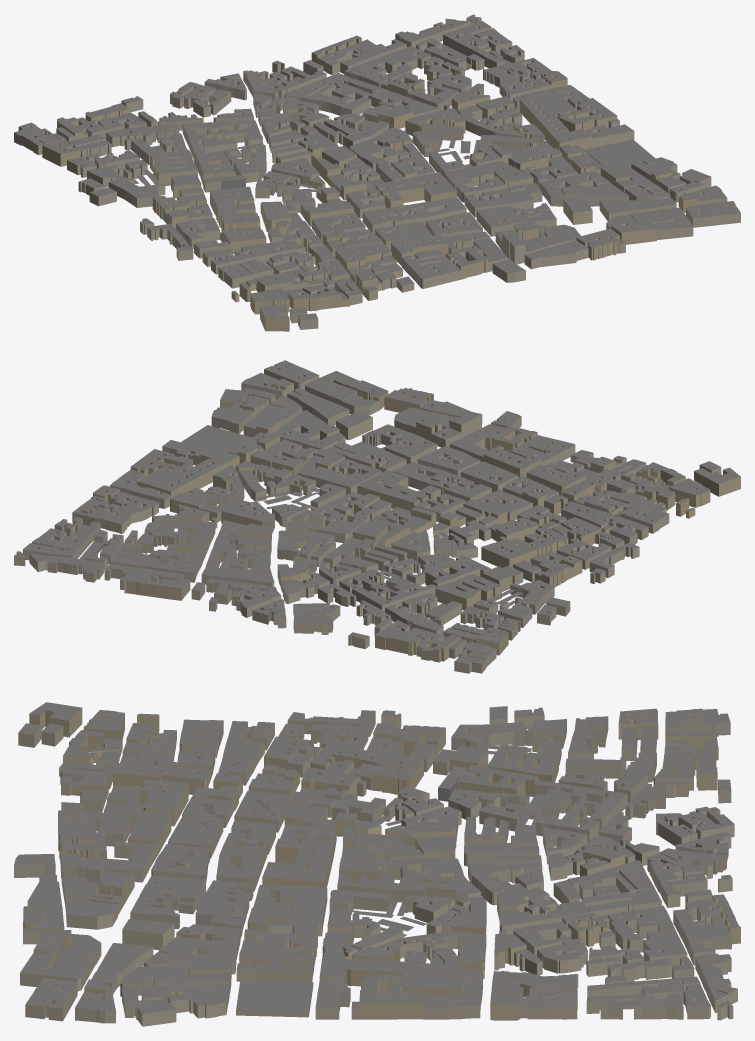
The model's file is buildings.glb.
3 views of the same model, one above another, from view 1: azimuth 30°, elevation 25°; view 2: azimuth 150°, elevation 25°; view 3: azimuth 270°, elevation 25° (orthographic). The views are drawn at different scales.
Parts seen in each view (by area): view 1: T_W1_N7_buildings; view 2: T_W1_N7_buildings; view 3: T_W1_N7_buildings.
Part boxes in pixels (left/top/right/bottom): T_W1_N7_buildings: left=14, top=14, right=740, bottom=331; T_W1_N7_buildings: left=14, top=360, right=740, bottom=673; T_W1_N7_buildings: left=14, top=702, right=740, bottom=1026.
Bounding box in the file's own units: 522 × 19 × 520.
